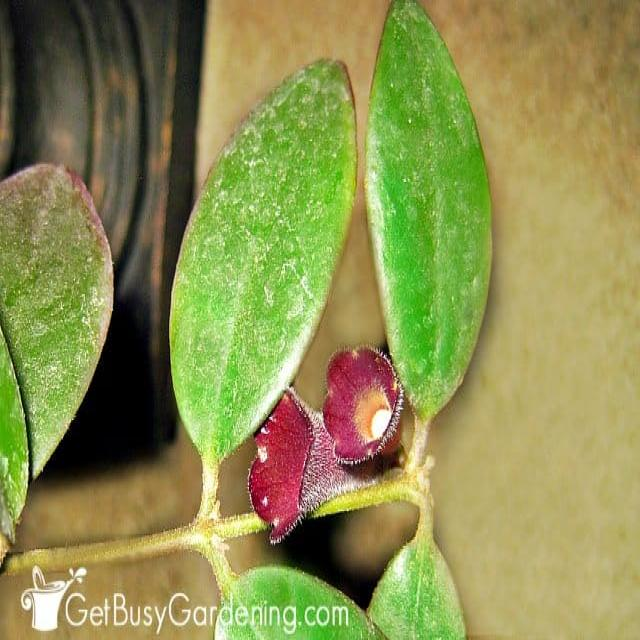Lipstick-Plant: (234, 328, 455, 549)
